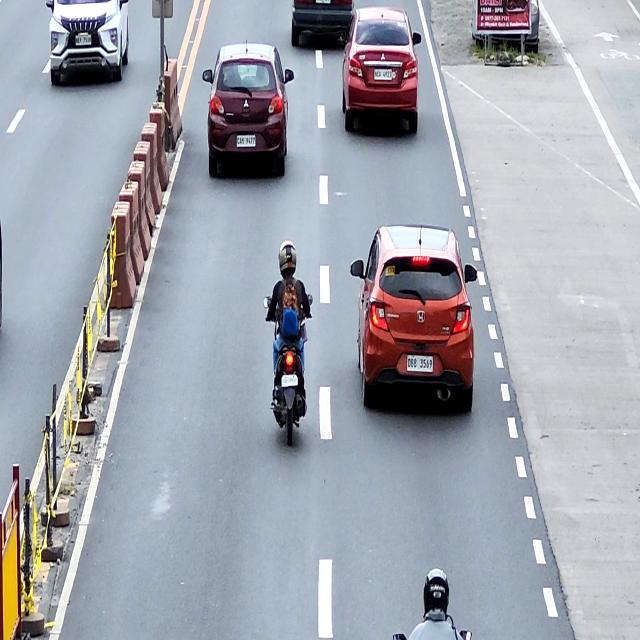Car: (351, 226, 478, 415), (202, 42, 294, 181), (337, 8, 422, 136), (46, 0, 130, 86)
License-Plate: (407, 355, 433, 372), (236, 135, 256, 148), (281, 376, 298, 388), (373, 70, 392, 80), (75, 35, 92, 45)
Motorcycle: (262, 294, 313, 448)
